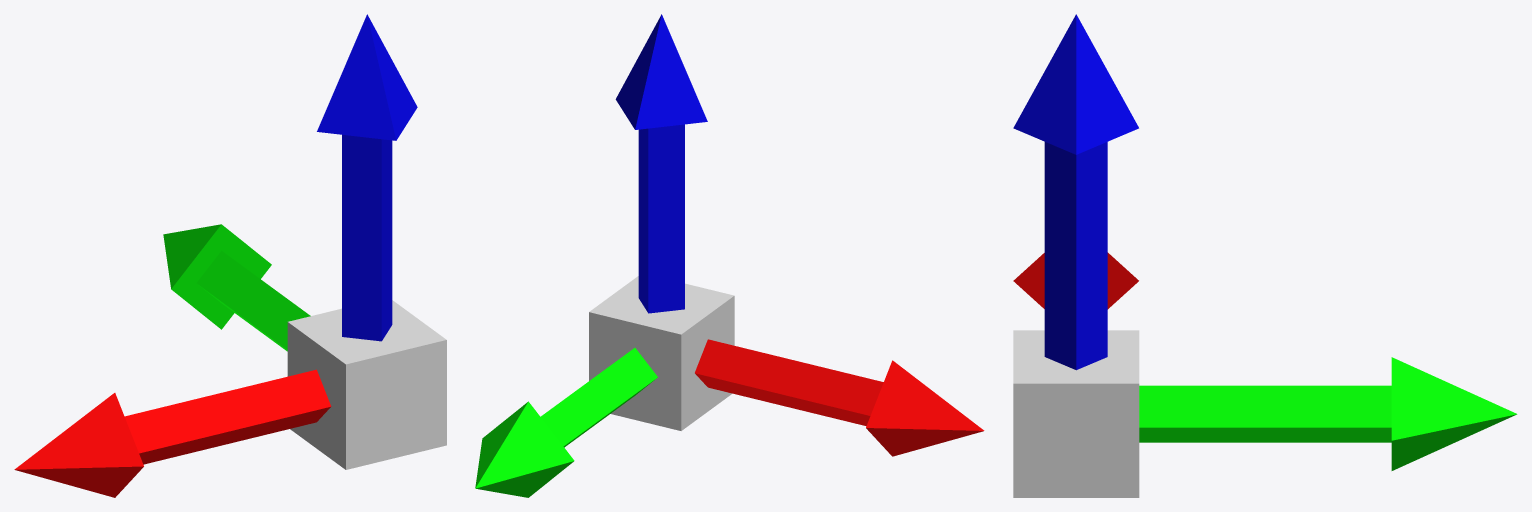
Rendered from DevOrientation.fbx.
3 views of the same model, side by side, from view 1: azimuth 30°, elevation 25°; view 2: azimuth 150°, elevation 25°; view 3: azimuth 270°, elevation 25° (orthographic). The views are drawn at different scales.
Visible parts, largest first — view 1: Cube; view 2: Cube; view 3: Cube.
Part boxes in pixels (x1,y1,x2,y2): Cube: [14, 14, 446, 497]; Cube: [475, 14, 984, 497]; Cube: [1013, 14, 1517, 497].
Size of the model in its own units: 800 by 800 by 800.
